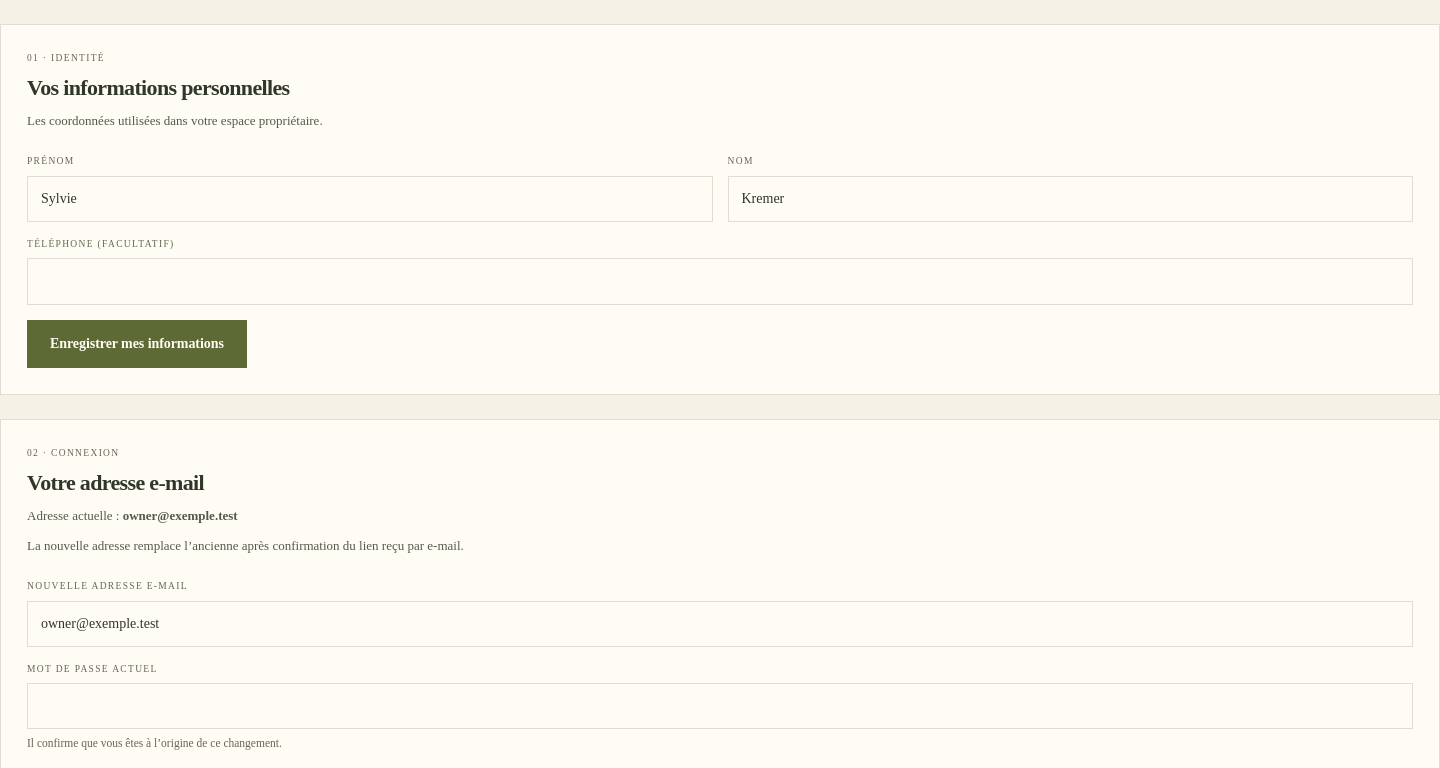
Test: Informations du compte propriétaire › enregistre les coordonnées et rafraîchit l’identité affichée
The width and height of the screenshot is (1440, 768).
Step 1. Replace the text in the field labelled "Nom" with "Martin" → (1070, 199), box x1=728 y1=176 x2=1413 y2=222
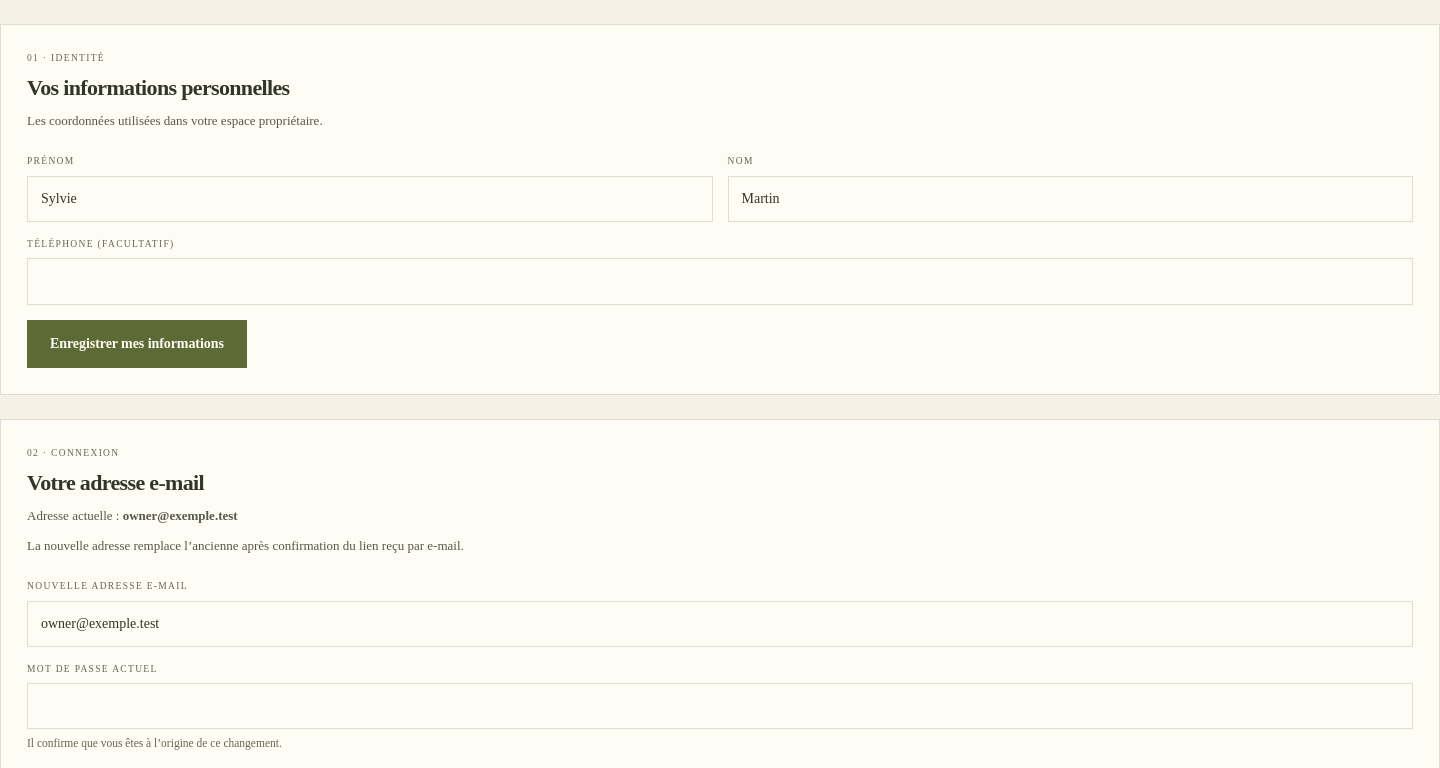
Step 2. Type "+33612345678" into the field labelled "Téléphone (facultatif)" → (720, 282), box x1=27 y1=258 x2=1413 y2=305
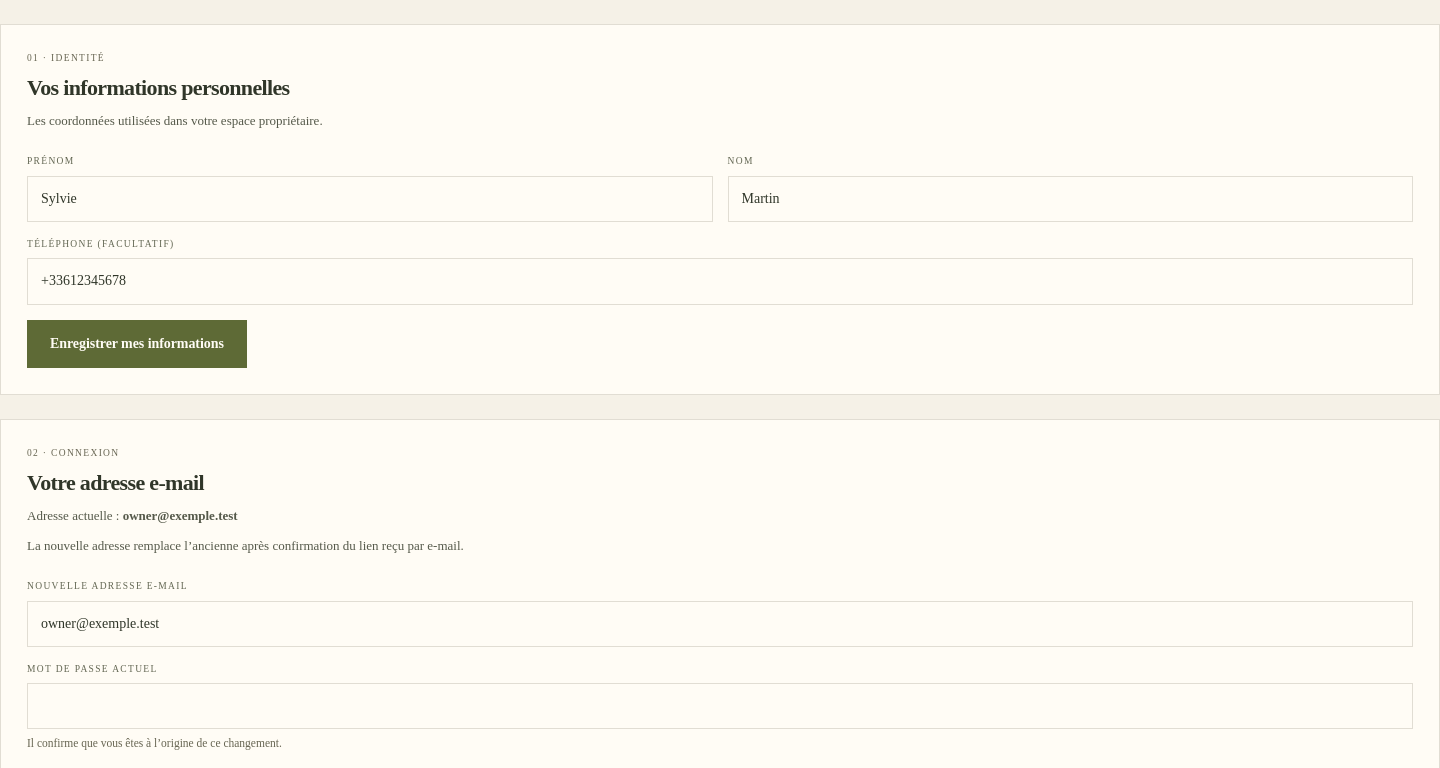
Step 3. Click the button "Enregistrer mes informations" → click(137, 344), box x1=27 y1=320 x2=247 y2=368
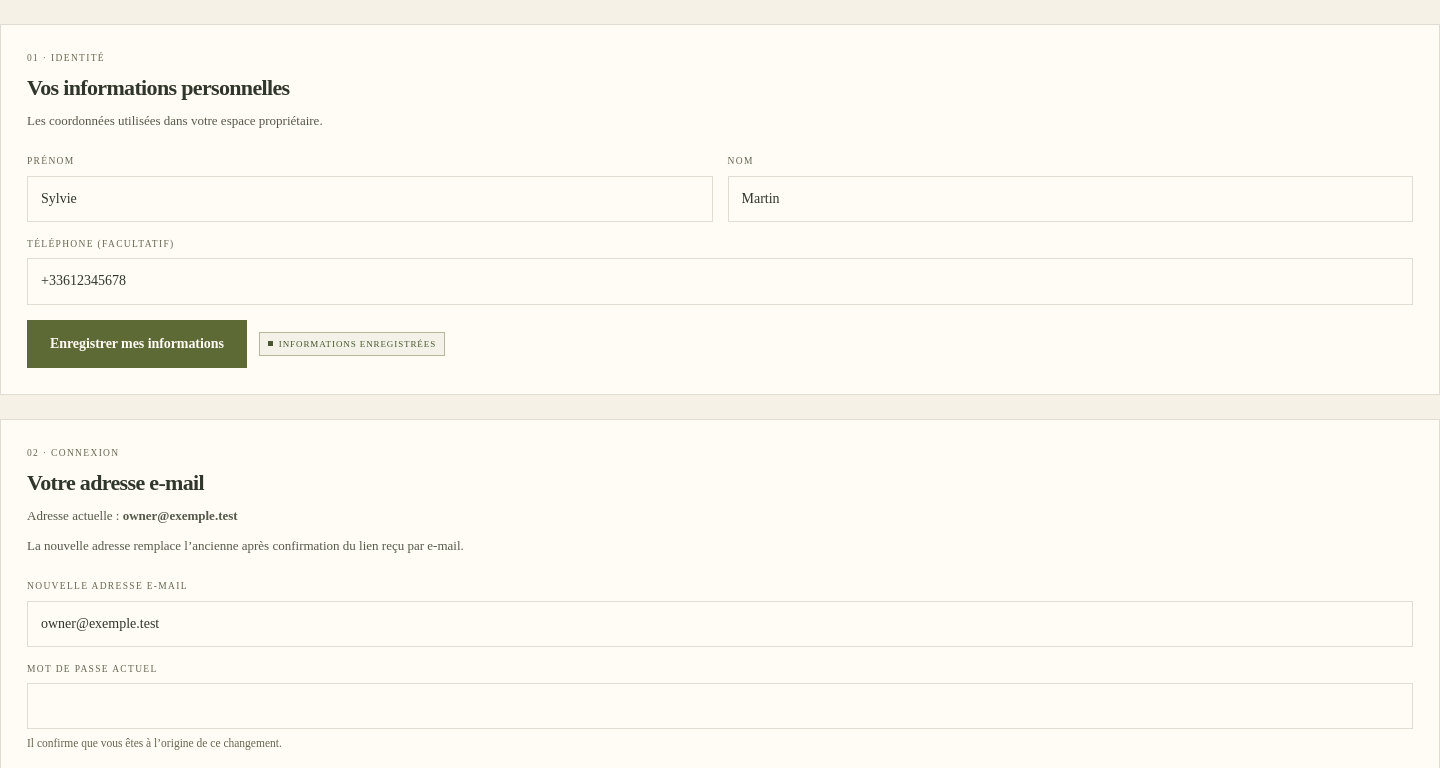
Expected: the text "Informations enregistrées" is shown, x1=259 y1=332 x2=445 y2=356
